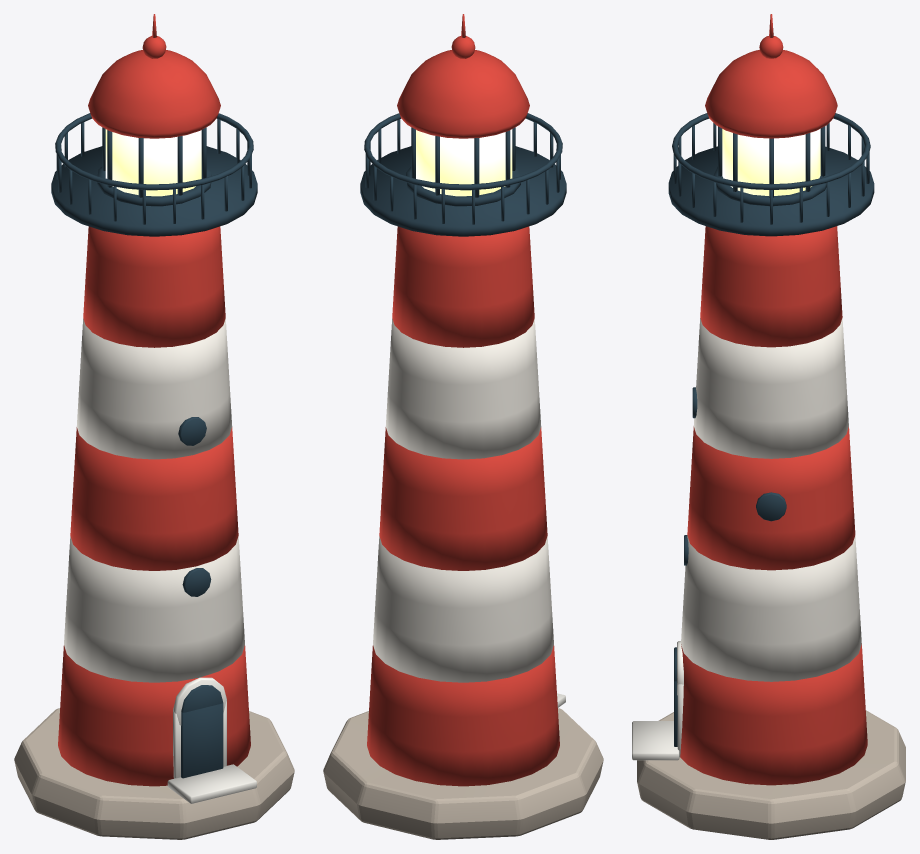
Rendered from lighthouse.glb.
The picture shows the model from 3 angles, left to right: view 1: azimuth 30°, elevation 25°; view 2: azimuth 150°, elevation 25°; view 3: azimuth 270°, elevation 25°; orthographic projection.
Parts seen in each view (by area): view 1: Lighthouse_Bands_Red, Lighthouse_Bands_White, Lighthouse_Base, Lighthouse_Gallery, Lighthouse_Dome, Lighthouse_Openings, Lighthouse_Lantern, Lighthouse_DoorFrame, Lighthouse_Mullions; view 2: Lighthouse_Bands_Red, Lighthouse_Bands_White, Lighthouse_Base, Lighthouse_Gallery, Lighthouse_Dome, Lighthouse_Lantern, Lighthouse_Mullions; view 3: Lighthouse_Bands_Red, Lighthouse_Bands_White, Lighthouse_Base, Lighthouse_Gallery, Lighthouse_Dome, Lighthouse_Lantern, Lighthouse_Mullions, Lighthouse_DoorFrame, Lighthouse_Openings.
Boxes of the visible parts, left/top/right/bottom form: Lighthouse_Bands_Red: left=58, top=226, right=250, bottom=786; Lighthouse_Bands_White: left=64, top=318, right=244, bottom=682; Lighthouse_Base: left=14, top=708, right=294, bottom=839; Lighthouse_Gallery: left=51, top=113, right=257, bottom=236; Lighthouse_Dome: left=88, top=14, right=220, bottom=138; Lighthouse_Openings: left=178, top=417, right=223, bottom=778; Lighthouse_Lantern: left=105, top=129, right=201, bottom=196; Lighthouse_DoorFrame: left=167, top=677, right=256, bottom=803; Lighthouse_Mullions: left=97, top=127, right=211, bottom=206; Lighthouse_Bands_Red: left=367, top=226, right=559, bottom=786; Lighthouse_Bands_White: left=373, top=318, right=553, bottom=682; Lighthouse_Base: left=323, top=708, right=603, bottom=839; Lighthouse_Gallery: left=360, top=113, right=566, bottom=236; Lighthouse_Dome: left=397, top=14, right=529, bottom=138; Lighthouse_Lantern: left=416, top=129, right=512, bottom=196; Lighthouse_Mullions: left=406, top=127, right=520, bottom=206; Lighthouse_Bands_Red: left=680, top=226, right=867, bottom=785; Lighthouse_Bands_White: left=681, top=318, right=861, bottom=681; Lighthouse_Base: left=637, top=710, right=905, bottom=839; Lighthouse_Gallery: left=668, top=113, right=874, bottom=236; Lighthouse_Dome: left=705, top=14, right=837, bottom=138; Lighthouse_Lantern: left=722, top=128, right=820, bottom=195; Lighthouse_Mullions: left=713, top=126, right=828, bottom=206; Lighthouse_DoorFrame: left=632, top=641, right=683, bottom=760; Lighthouse_Openings: left=674, top=387, right=786, bottom=746.
Size of the model in its own units: 6.57 by 19.8 by 6.39.
